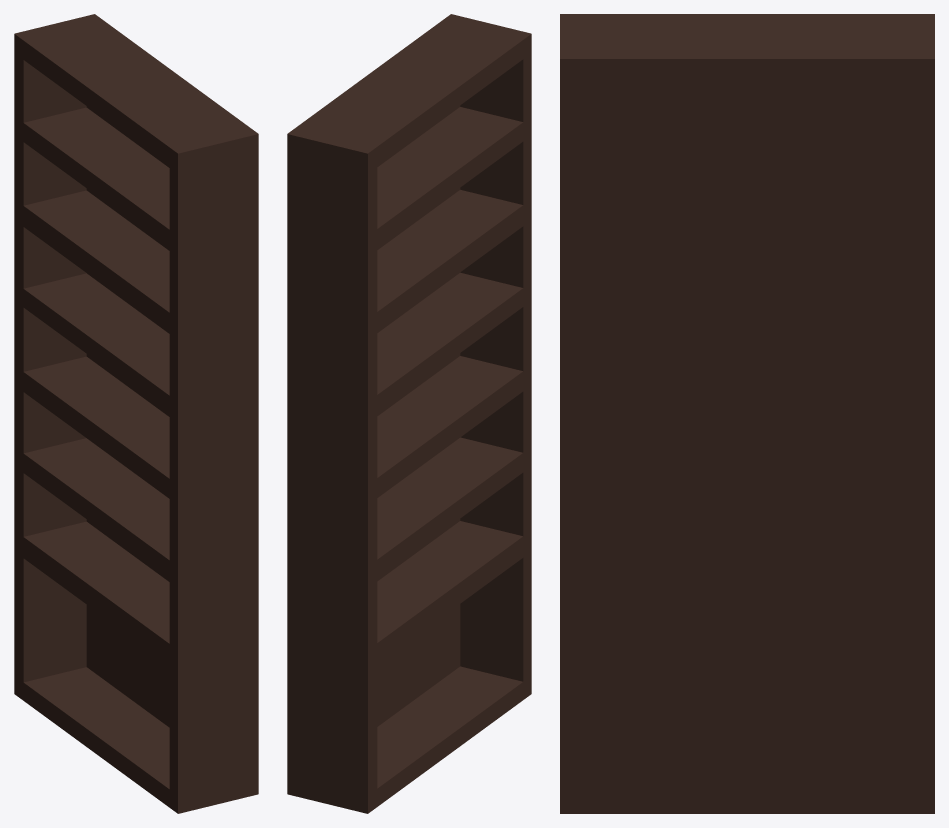
Rendered from Shelf.fbx.
The picture shows the model from 3 angles, left to right: view 1: azimuth 30°, elevation 25°; view 2: azimuth 150°, elevation 25°; view 3: azimuth 270°, elevation 25°; orthographic projection. The views are drawn at different scales.
Parts seen in each view (by area): view 1: Shelf_02; view 2: Shelf_02; view 3: Shelf_02.
Part boxes in pixels (x1,y1,x2,y2): Shelf_02: (14, 14, 258, 813); Shelf_02: (287, 14, 531, 813); Shelf_02: (560, 14, 934, 813).
Bounding box in the file's own units: 24.14 × 189 × 84.98.
